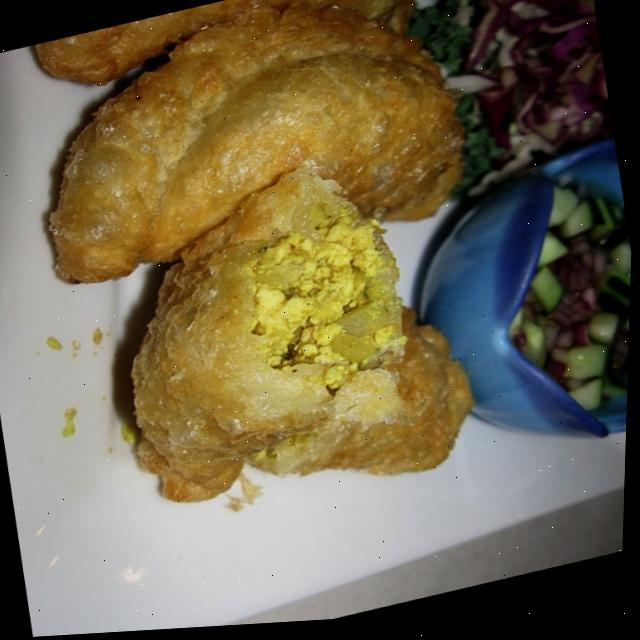炸货点心: (0, 0, 611, 600)
